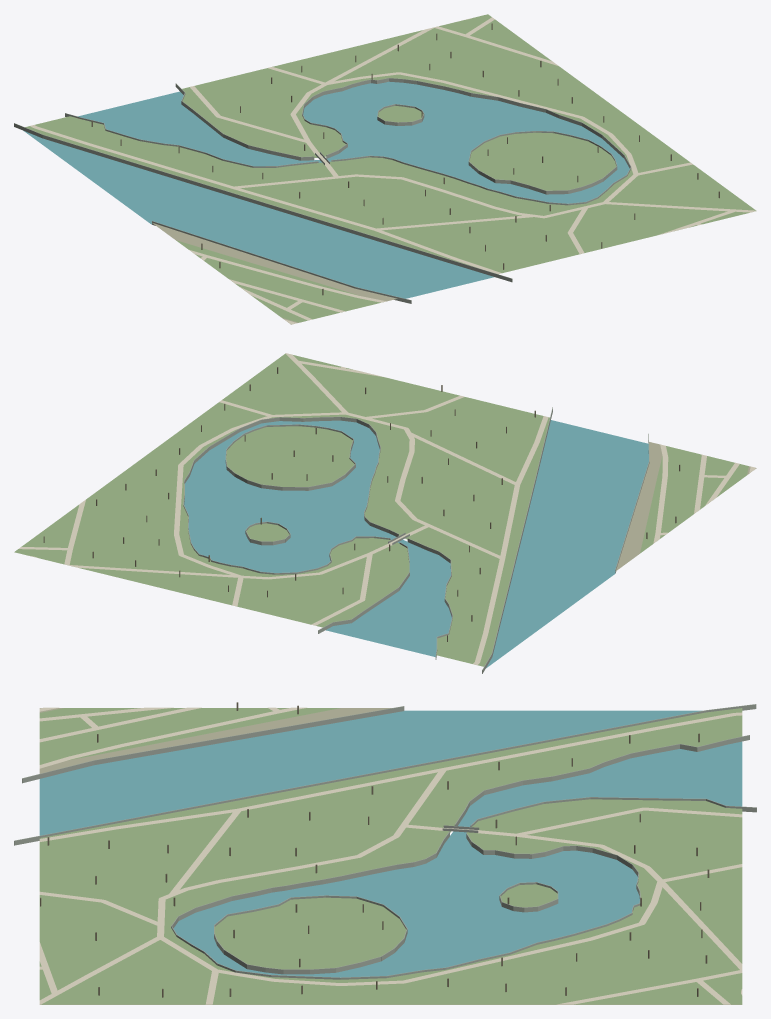
File: sector--2_-1.glb
3 views of the same model, one above another, from view 1: azimuth 30°, elevation 25°; view 2: azimuth 150°, elevation 25°; view 3: azimuth 270°, elevation 25° (orthographic). The views are drawn at different scales.
Visible parts, largest first — view 1: -2:-1-park, -2:-1-water, -2:-1-paving, -2:-1-bank, -2:-1-ground, -2:-1-trunk; view 2: -2:-1-park, -2:-1-water, -2:-1-paving, -2:-1-bank, -2:-1-ground, -2:-1-trunk; view 3: -2:-1-park, -2:-1-water, -2:-1-paving, -2:-1-bank, -2:-1-ground, -2:-1-trunk.
Boxes of the visible parts, bbox=[...] form: -2:-1-park: bbox=[25, 14, 755, 322]; -2:-1-water: bbox=[23, 81, 629, 298]; -2:-1-paving: bbox=[30, 17, 756, 324]; -2:-1-bank: bbox=[14, 78, 631, 303]; -2:-1-ground: bbox=[151, 222, 397, 324]; -2:-1-trunk: bbox=[91, 23, 719, 295]; -2:-1-park: bbox=[14, 353, 748, 666]; -2:-1-water: bbox=[184, 420, 648, 668]; -2:-1-paving: bbox=[19, 353, 755, 664]; -2:-1-bank: bbox=[183, 407, 649, 673]; -2:-1-ground: bbox=[615, 442, 756, 571]; -2:-1-trunk: bbox=[43, 367, 680, 641]; -2:-1-park: bbox=[39, 708, 742, 1004]; -2:-1-water: bbox=[39, 710, 742, 977]; -2:-1-paving: bbox=[39, 707, 742, 1004]; -2:-1-bank: bbox=[14, 704, 756, 979]; -2:-1-ground: bbox=[39, 708, 741, 1004]; -2:-1-trunk: bbox=[40, 702, 709, 997].
Size of the model in its own units: 201 by 3.45 by 211.
